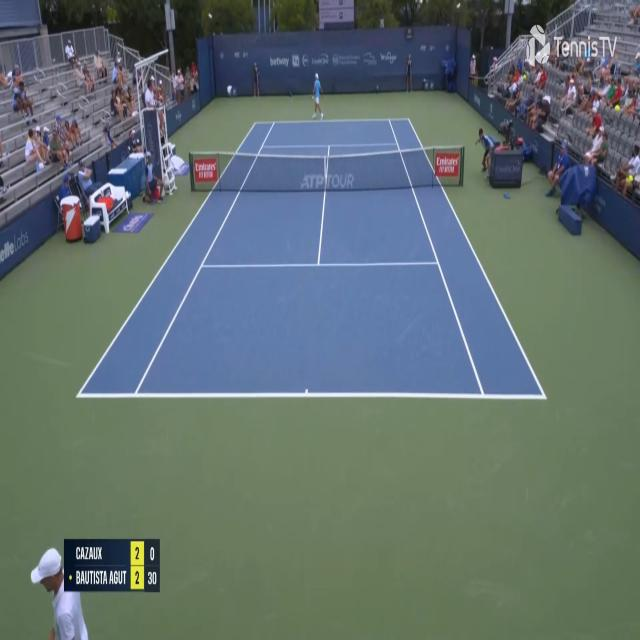tennis-player: (310, 71, 326, 122)
